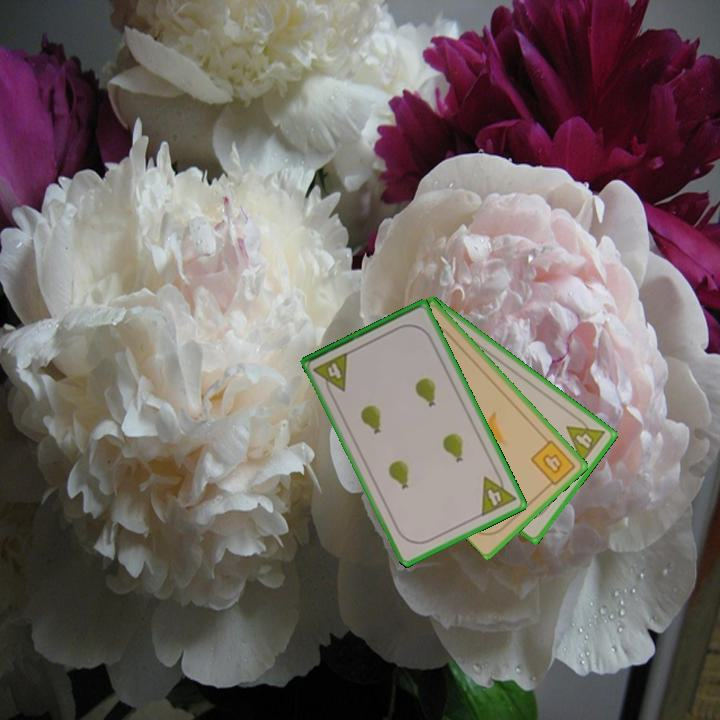4b: (527, 436, 579, 491)
4p: (563, 412, 608, 466), (477, 467, 519, 519), (310, 348, 352, 399)
